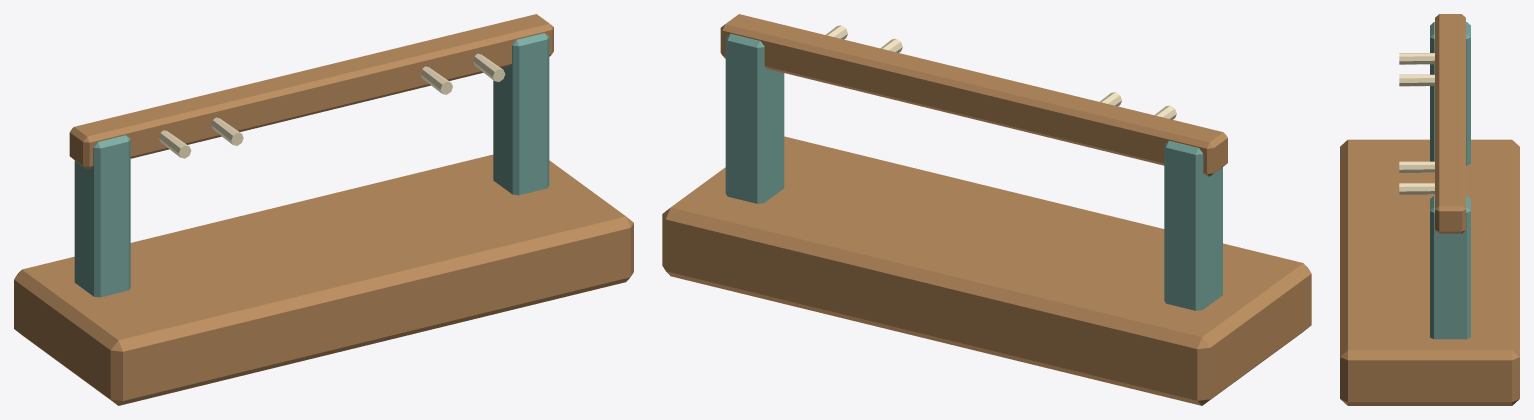
The picture shows the model from 3 angles, left to right: view 1: azimuth 30°, elevation 25°; view 2: azimuth 150°, elevation 25°; view 3: azimuth 270°, elevation 25°; orthographic projection. The views are drawn at different scales.
Parts seen in each view (by area): view 1: fishing-rod-rack-01; view 2: fishing-rod-rack-01; view 3: fishing-rod-rack-01.
Boxes of the visible parts, x1,y1,x2,y2 form: fishing-rod-rack-01: (14, 14, 633, 405); fishing-rod-rack-01: (662, 14, 1311, 405); fishing-rod-rack-01: (1340, 14, 1519, 405).
Bounding box in the file's own units: 1 × 0.41 × 0.35.
